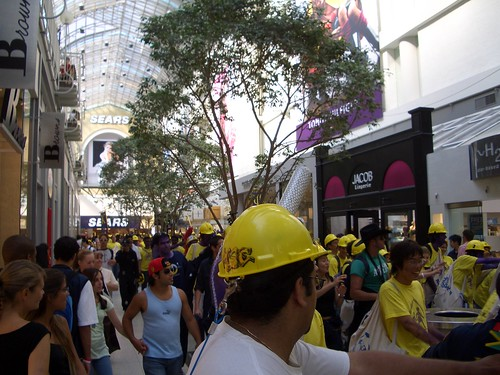person hardhat: (209, 201, 340, 375), (454, 238, 490, 302), (306, 240, 338, 311), (186, 216, 218, 273), (427, 221, 452, 283), (322, 230, 340, 283), (125, 229, 146, 273), (353, 240, 374, 275), (337, 236, 352, 277)
